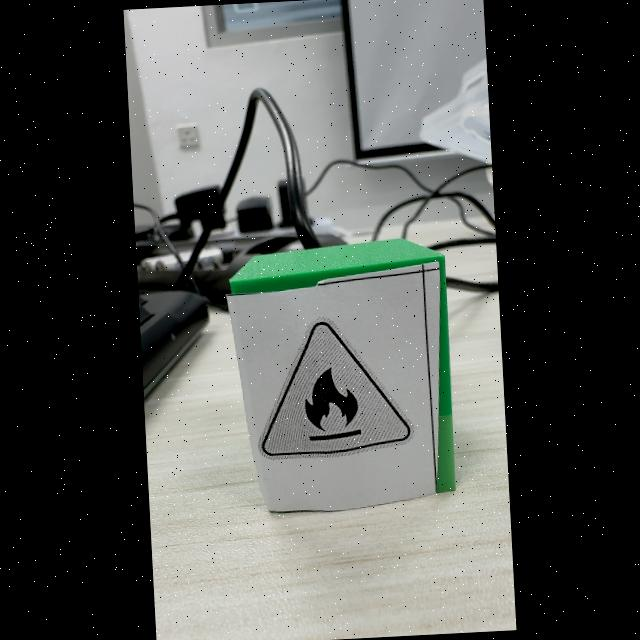Fire: (260, 321, 413, 459)
